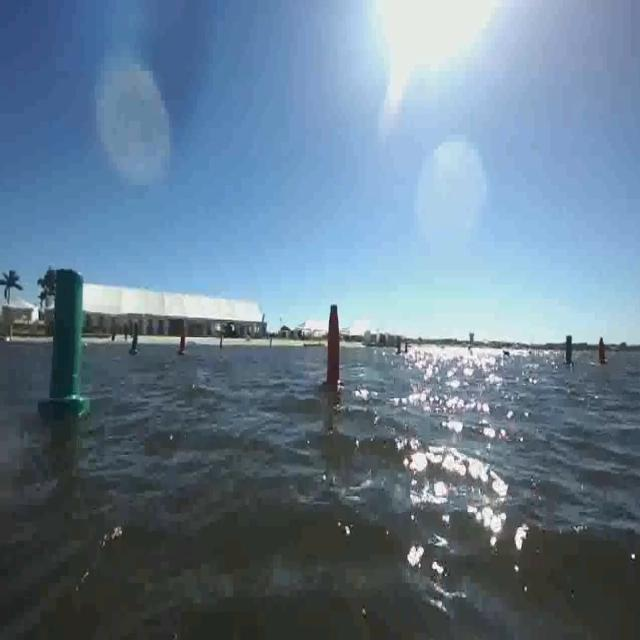green-column-buoy: (44, 269, 92, 418), (130, 322, 144, 357), (563, 336, 575, 366)
red-column-buoy: (325, 302, 346, 393), (594, 336, 606, 367), (180, 328, 192, 358)
